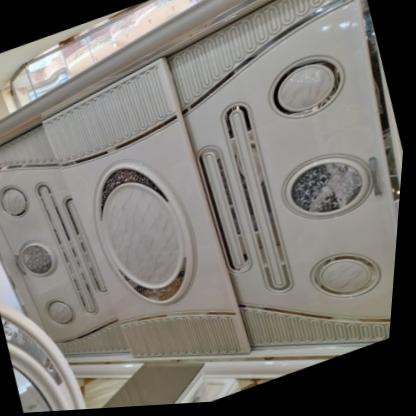Closet: (0, 0, 406, 381)
